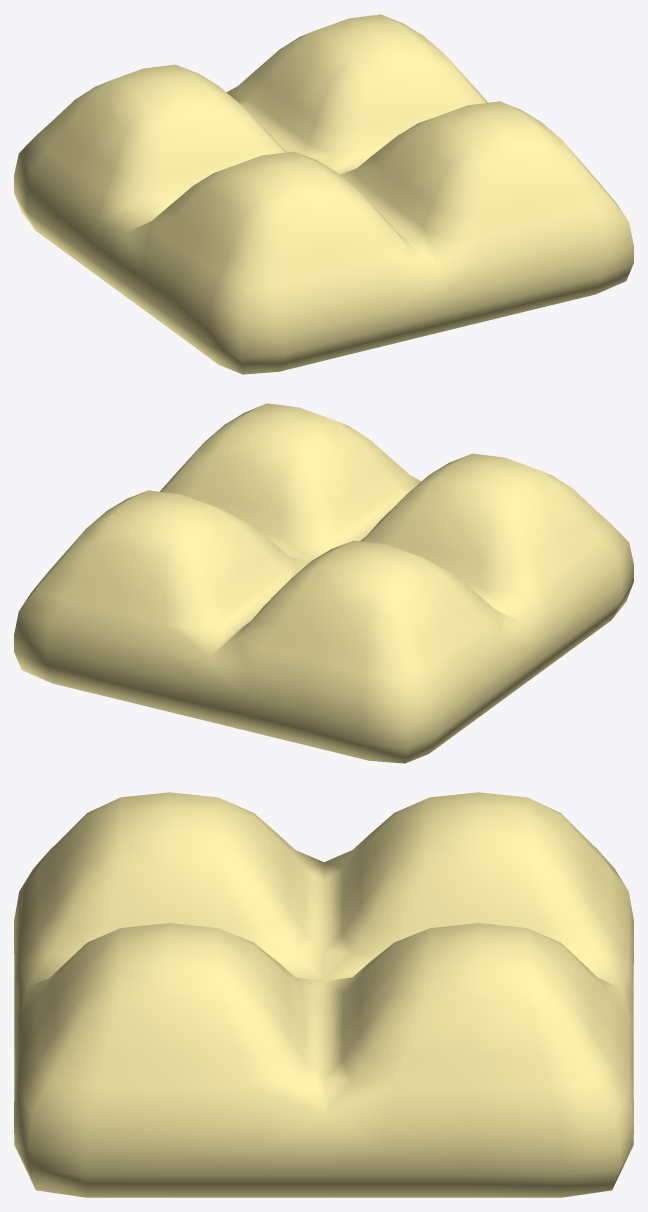
File: candy_assets27.fbx
3 renders of one model, top to bottom at view 1: azimuth 30°, elevation 25°; view 2: azimuth 150°, elevation 25°; view 3: azimuth 270°, elevation 25°, orthographic. The views are drawn at different scales.
Parts seen in each view (by area): view 1: candy_assets27; view 2: candy_assets27; view 3: candy_assets27.
Boxes of the visible parts, box(x1,y1,x2,y2) form: candy_assets27: box(14, 14, 633, 374); candy_assets27: box(14, 403, 633, 763); candy_assets27: box(14, 792, 633, 1197).
Bounding box in the file's own units: 571 × 212 × 571.
1 material, 1 textured.
